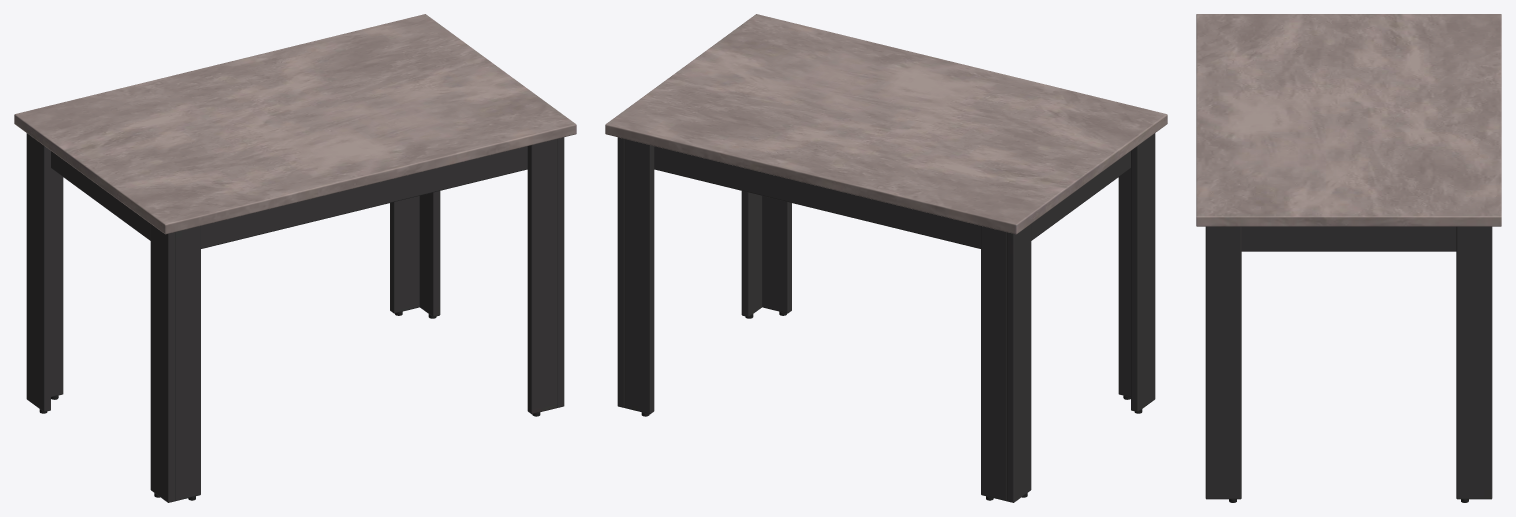
File: abo-B07QWZDNLM.glb
The picture shows the model from 3 angles, left to right: view 1: azimuth 30°, elevation 25°; view 2: azimuth 150°, elevation 25°; view 3: azimuth 270°, elevation 25°; orthographic projection.
Bounding box in the file's own units: 1.1 × 0.734 × 0.7.
1 material, 1 textured.
